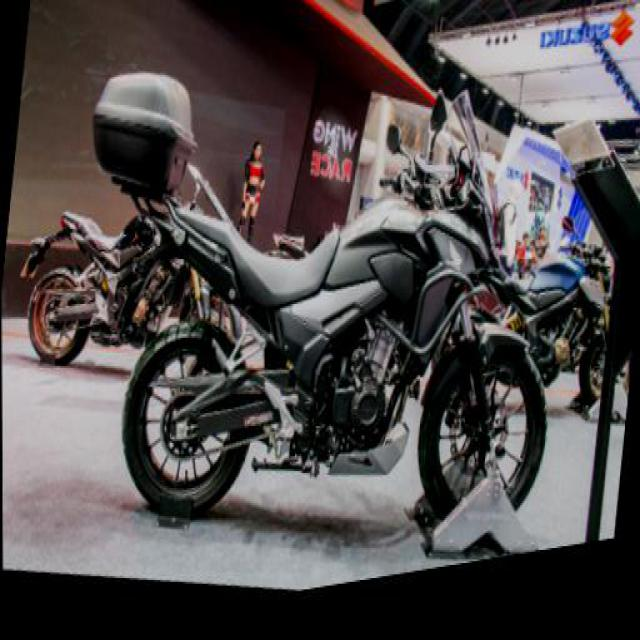CB500X: (107, 11, 583, 614)
